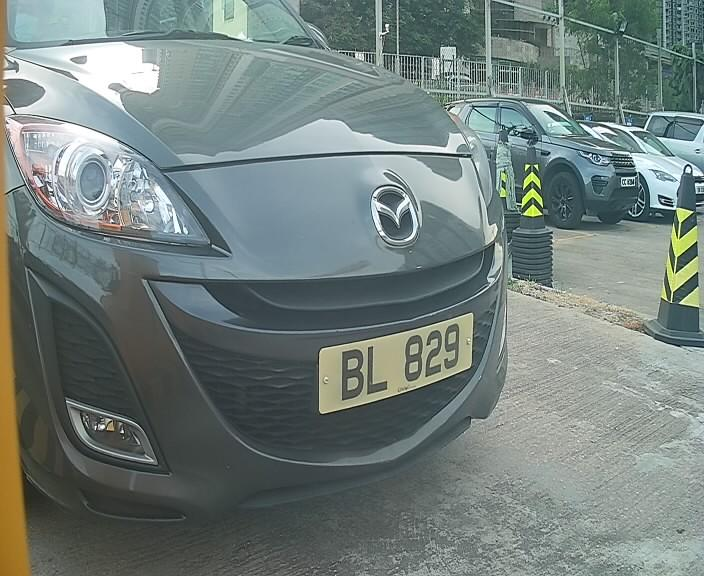License Plate: (308, 304, 487, 418)
